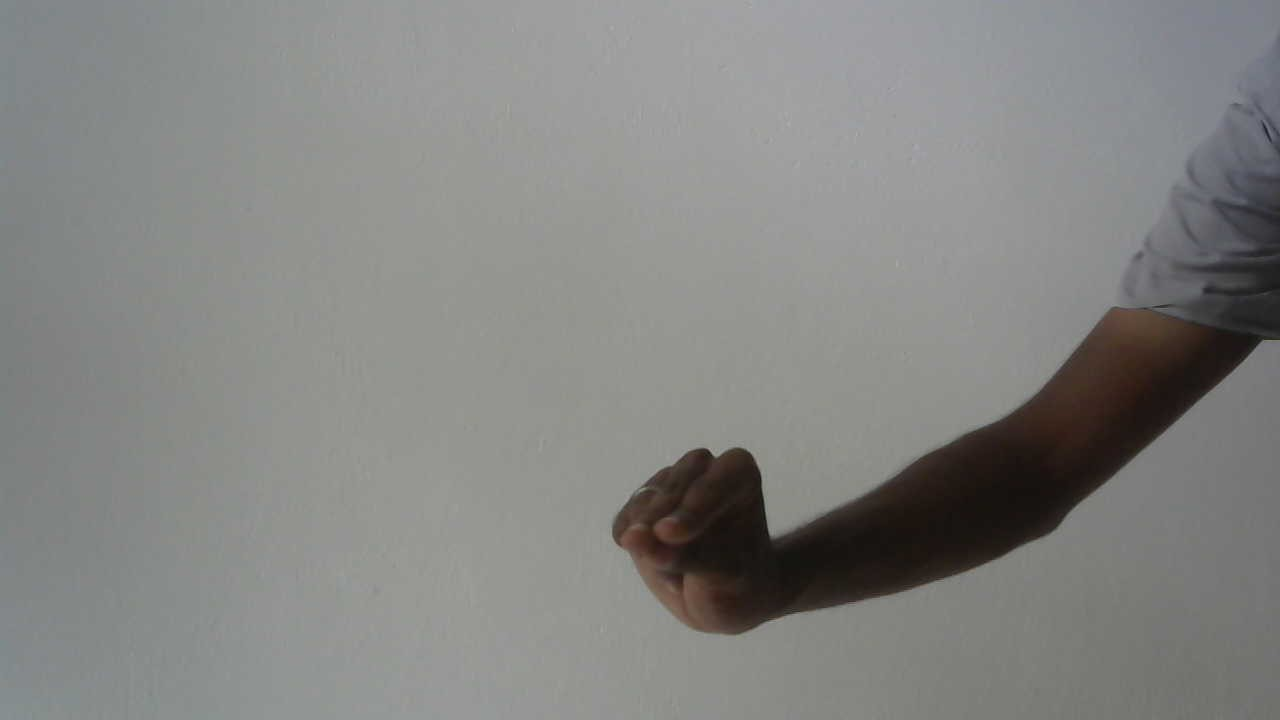no: (602, 433, 801, 664)
